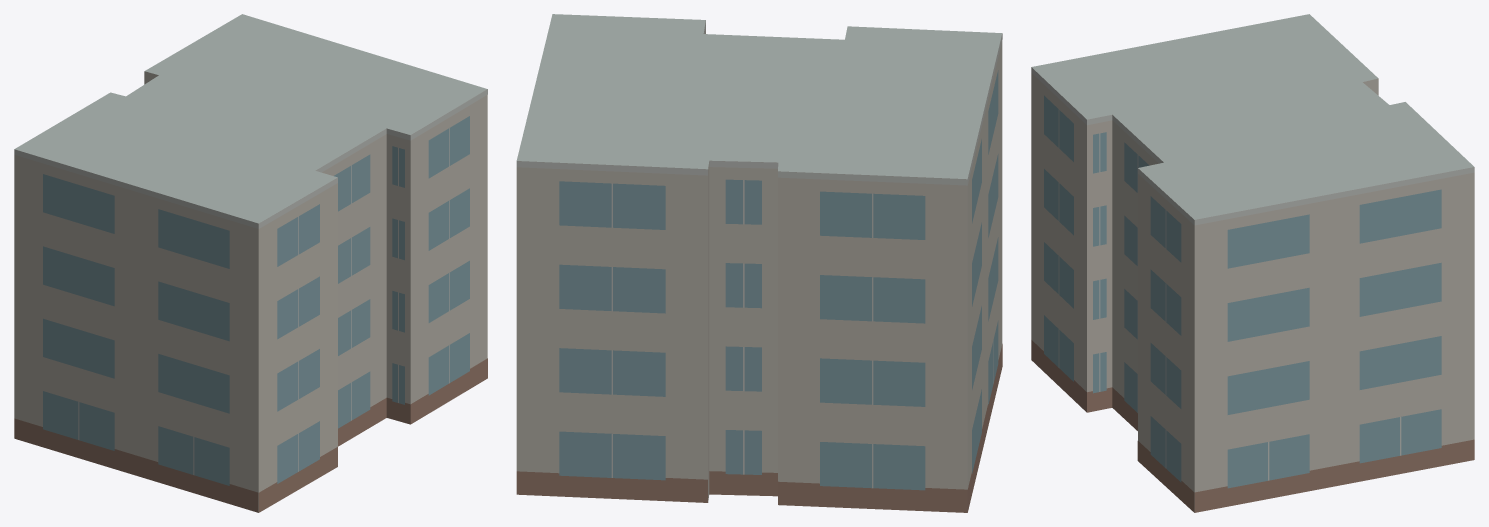
Rendered from survey-upis-32743142.glb.
3 views of the same model, side by side, from view 1: azimuth 30°, elevation 25°; view 2: azimuth 150°, elevation 25°; view 3: azimuth 270°, elevation 25° (orthographic). The views are drawn at different scales.
Parts seen in each view (by area): view 1: survey-upis-32743142.tmp; view 2: survey-upis-32743142.tmp; view 3: survey-upis-32743142.tmp.
Part boxes in pixels (bbox=[...]): survey-upis-32743142.tmp: bbox=[14, 14, 487, 512]; survey-upis-32743142.tmp: bbox=[516, 14, 1002, 512]; survey-upis-32743142.tmp: bbox=[1031, 14, 1474, 512].
Bounding box in the file's own units: 19.3 × 12.8 × 17.56.
